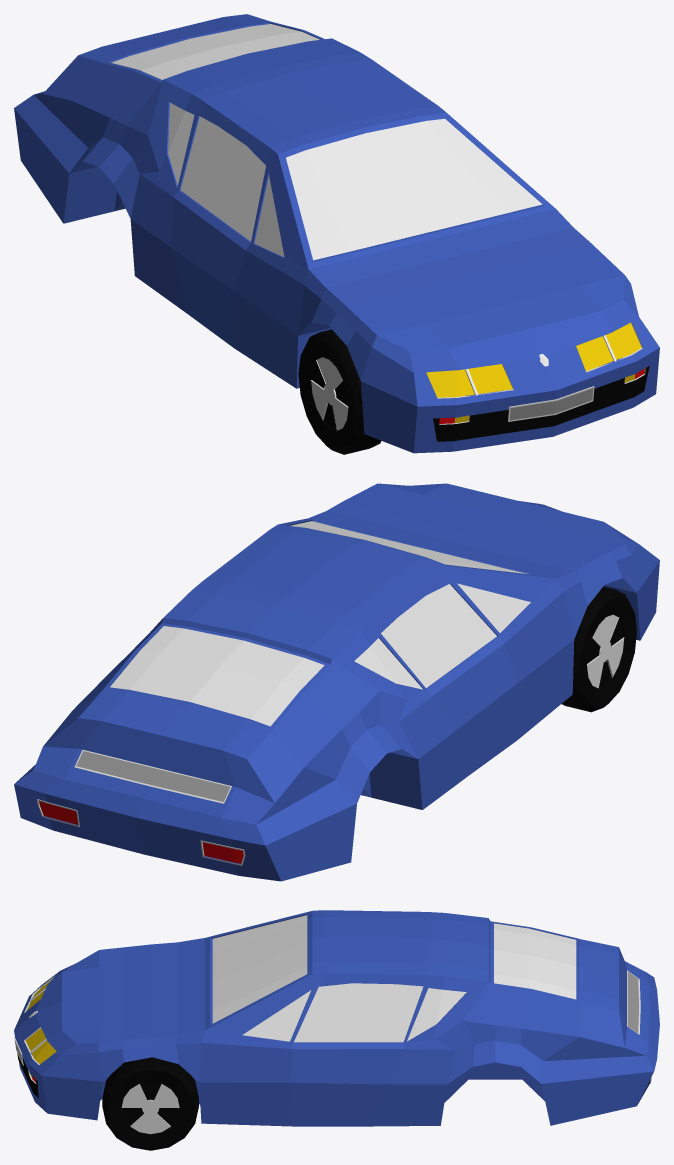
Rendered from renault-alpine-a310-v6-1977.fbx.
3 views of the same model, one above another, from view 1: azimuth 30°, elevation 25°; view 2: azimuth 150°, elevation 25°; view 3: azimuth 270°, elevation 25° (orthographic). The views are drawn at different scales.
Visible parts, largest first — view 1: Body, Wheel_FR; view 2: Body, Wheel_FR; view 3: Body, Wheel_FL.
Part boxes in pixels (x1,y1,x2,y2): Body: (14,14,659,453); Wheel_FR: (298,329,381,454); Body: (14,483,659,881); Wheel_FR: (562,586,636,712); Body: (14,910,659,1126); Wheel_FL: (102,1057,198,1150).
Bounding box in the file's own units: 127 × 89.79 × 322.
